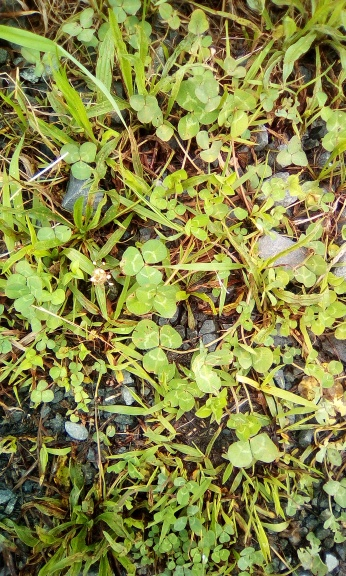4leaf: (124, 283, 178, 319), (162, 378, 203, 412), (194, 387, 228, 425), (226, 412, 261, 443)
